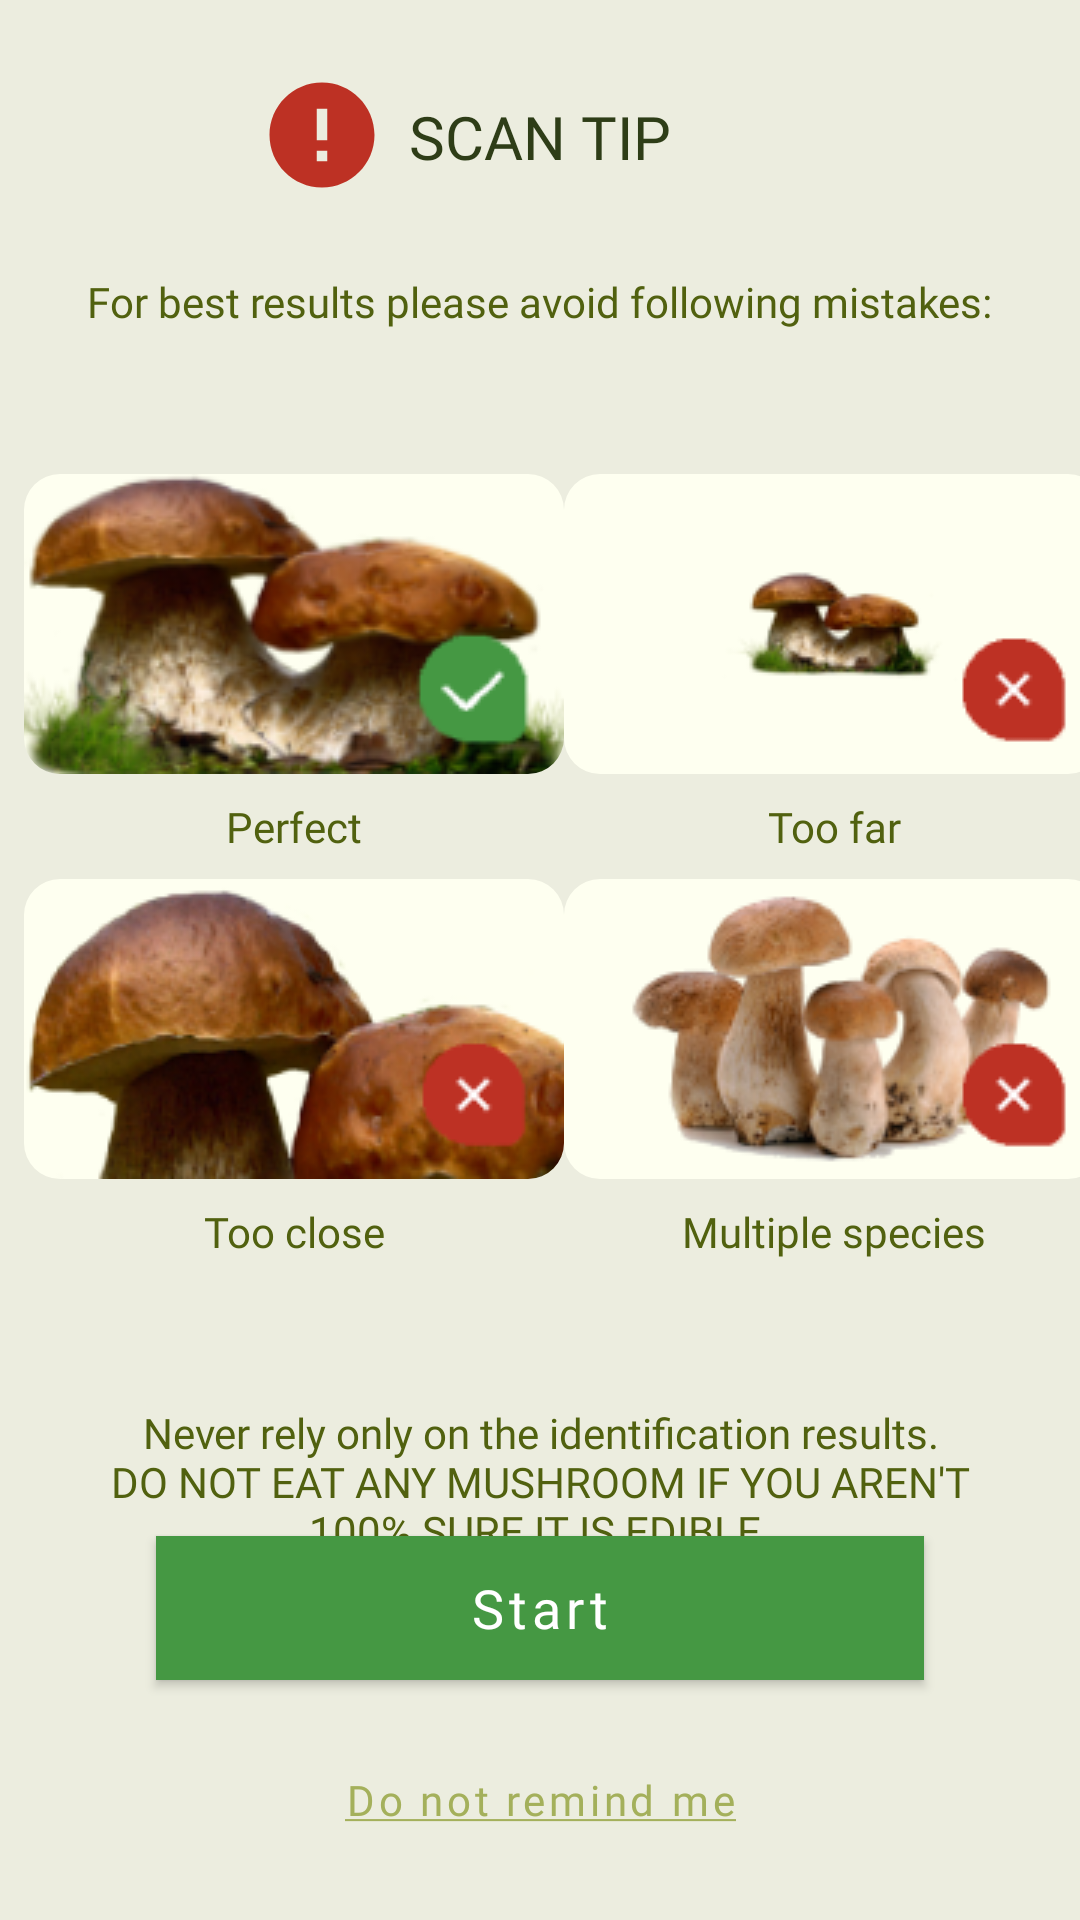

Screen size 1080px×1920px. Icon name, then its box in pixels as (x1, y1, x2, y2):
error: (269, 82, 375, 188)
